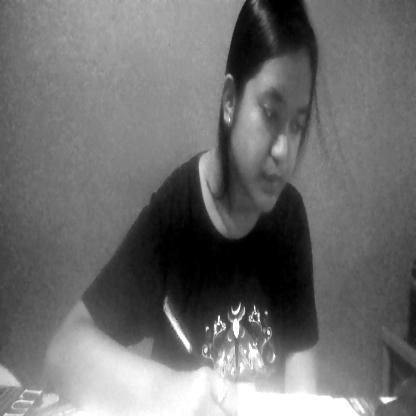Distracted: (233, 42, 314, 212)
